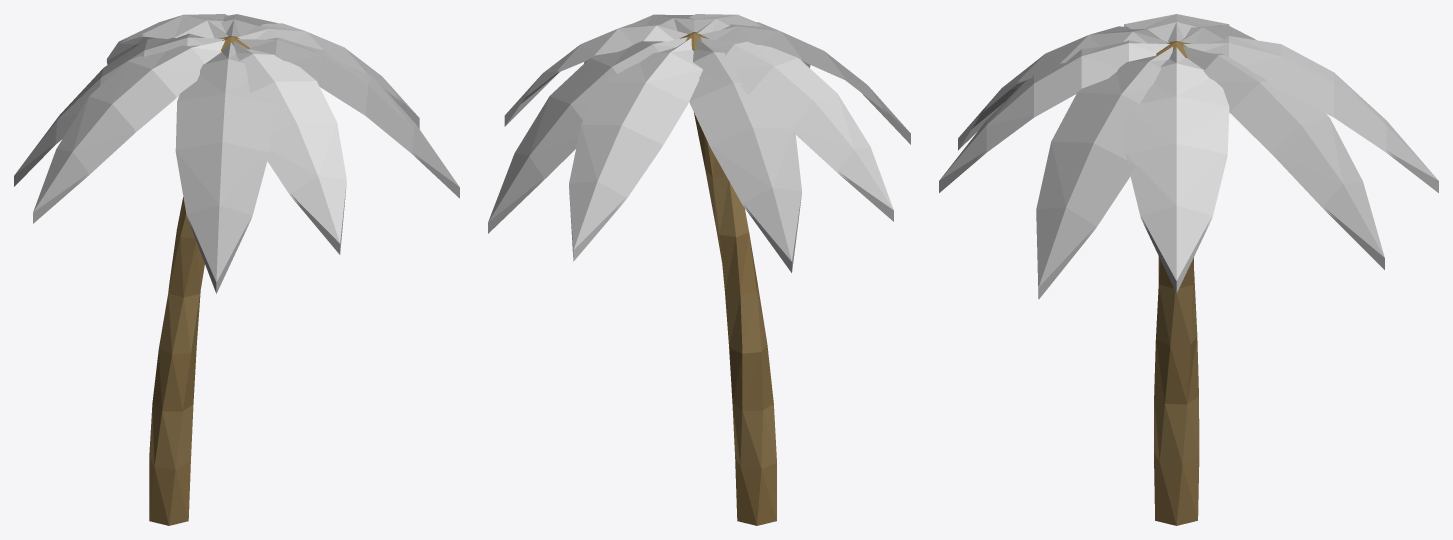
Rendered from palm.glb.
3 views of the same model, side by side, from view 1: azimuth 30°, elevation 25°; view 2: azimuth 150°, elevation 25°; view 3: azimuth 270°, elevation 25° (orthographic). The views are drawn at different scales.
Parts seen in each view (by area): view 1: frond_5, trunk, frond_6, frond_4, frond_7, frond_3, frond_0, frond_2, frond_1; view 2: frond_2, trunk, frond_3, frond_4, frond_1, frond_5, frond_0, frond_6, frond_7; view 3: frond_0, frond_7, frond_1, trunk, frond_2, frond_6, frond_5, frond_4, frond_3.
Boxes of the visible parts, x1,y1,x2,y2 form: frond_5: (175,42,273,293); trunk: (149,36,249,525); frond_6: (234,41,346,254); frond_4: (33,40,225,223); frond_7: (237,37,459,198); frond_3: (14,33,224,186); frond_0: (237,23,419,128); frond_2: (106,14,228,64); frond_1: (221,14,277,36); frond_2: (569,38,702,261); trunk: (679,32,776,525); frond_3: (689,38,801,272); frond_4: (700,37,893,221); frond_1: (488,37,687,233); frond_5: (700,22,910,144); frond_0: (504,22,687,126); frond_6: (689,14,810,67); frond_7: (584,14,695,63); frond_0: (1124,47,1229,293); frond_7: (1036,46,1172,299); frond_1: (1183,46,1384,269); trunk: (1154,41,1199,525); frond_2: (1183,36,1438,192); frond_6: (939,40,1169,192); frond_5: (958,26,1169,150); frond_4: (1124,14,1229,41); frond_3: (1180,25,1256,43).
Bounding box in the file's own units: 2.36 × 2.71 × 2.42.
